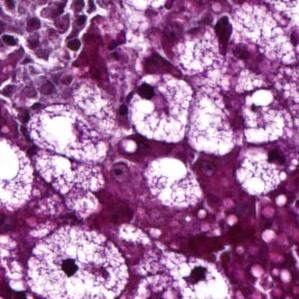ballooning: (24, 220, 131, 299), (124, 72, 194, 144), (235, 145, 291, 197)
